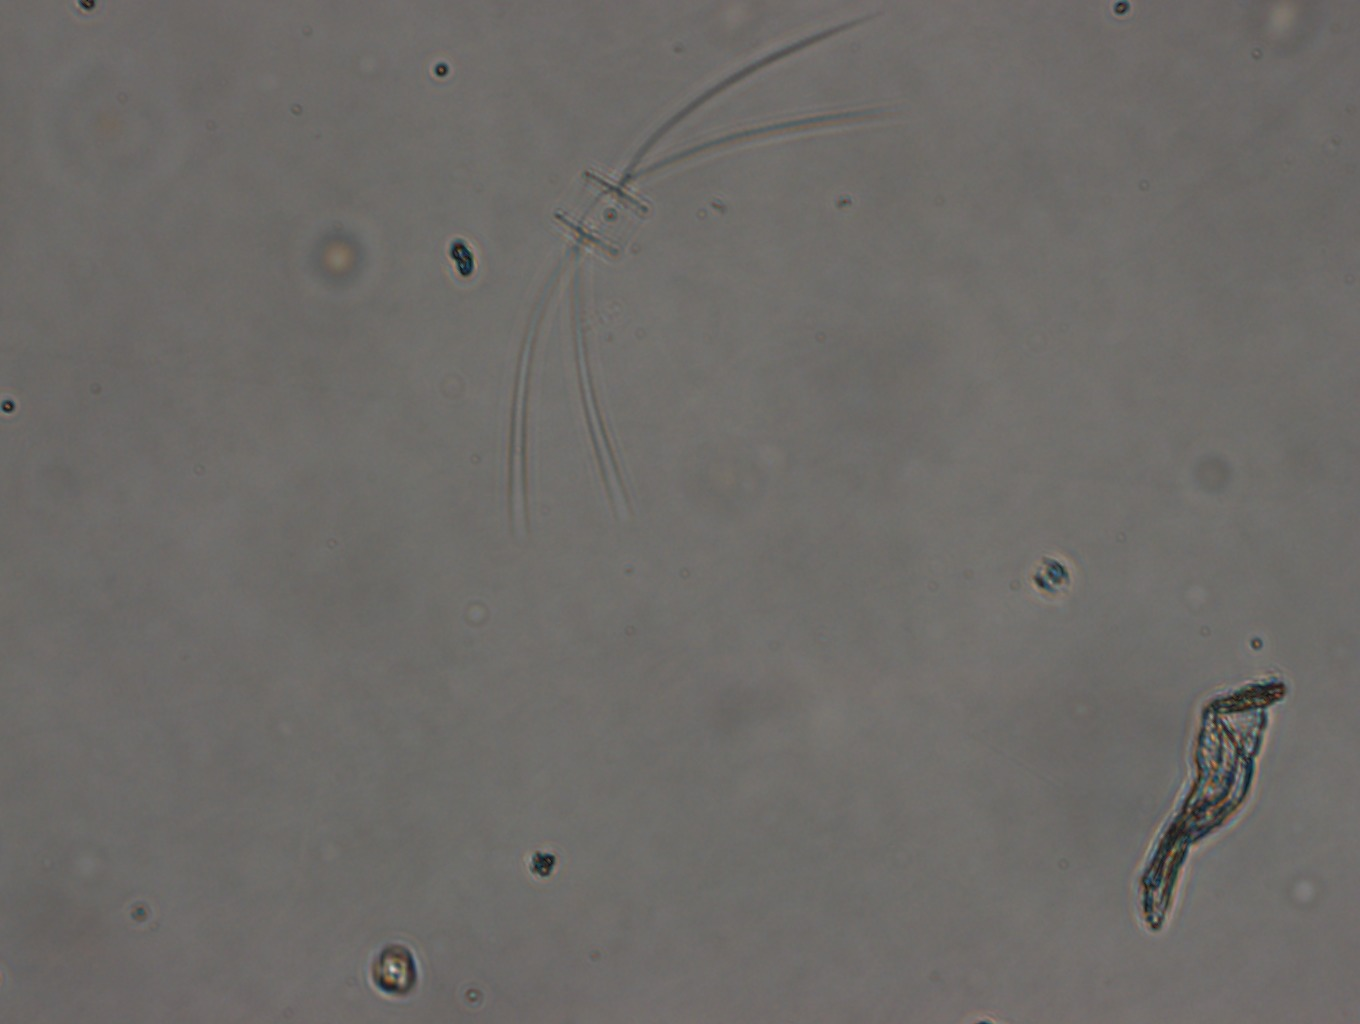chaetoceros: (495, 10, 889, 546)
